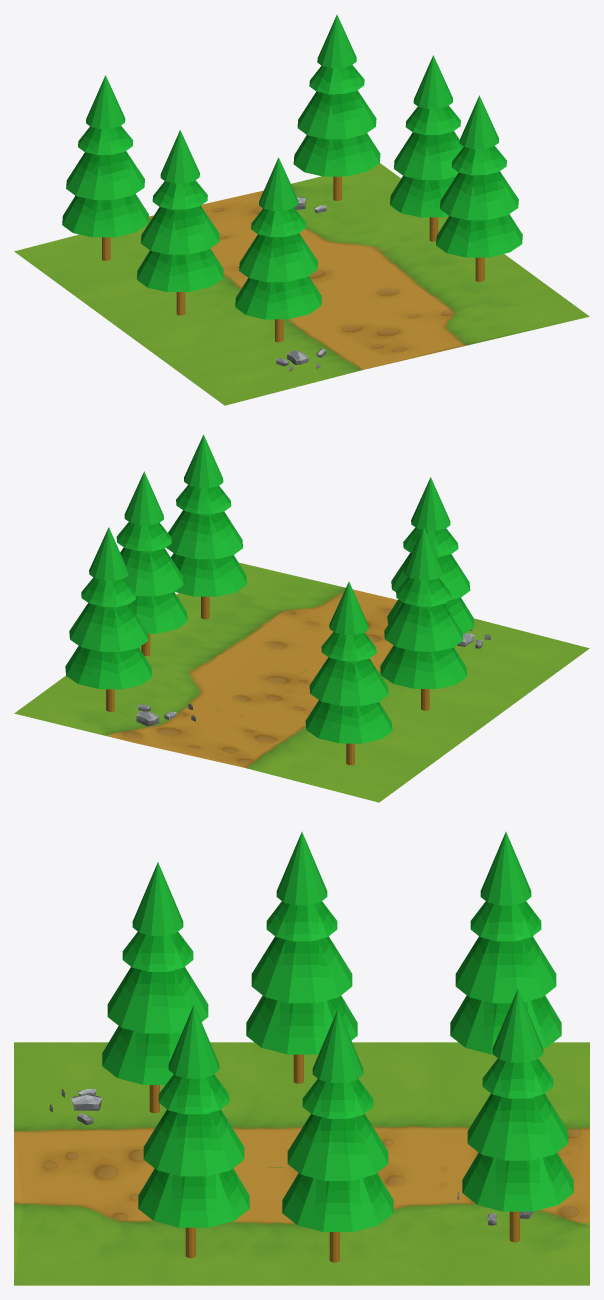
The picture shows the model from 3 angles, top to bottom: view 1: azimuth 30°, elevation 25°; view 2: azimuth 150°, elevation 25°; view 3: azimuth 270°, elevation 25°; orthographic projection. The views are drawn at different scales.
Visible parts, largest first — view 1: plane, cylinder (×6); view 2: plane, cylinder (×6); view 3: plane, cylinder (×6).
Part boxes in pixels (<box>): plane: <box>14,163,589,405</box>; cylinder (×6): <box>62,14,522,342</box>; plane: <box>14,562,589,802</box>; cylinder (×6): <box>65,434,474,765</box>; plane: <box>14,1042,589,1285</box>; cylinder (×6): <box>102,832,573,1262</box>.
Bounding box in the file's own units: 3 × 1.52 × 3.
Materials: 3 (3 with a texture image).
